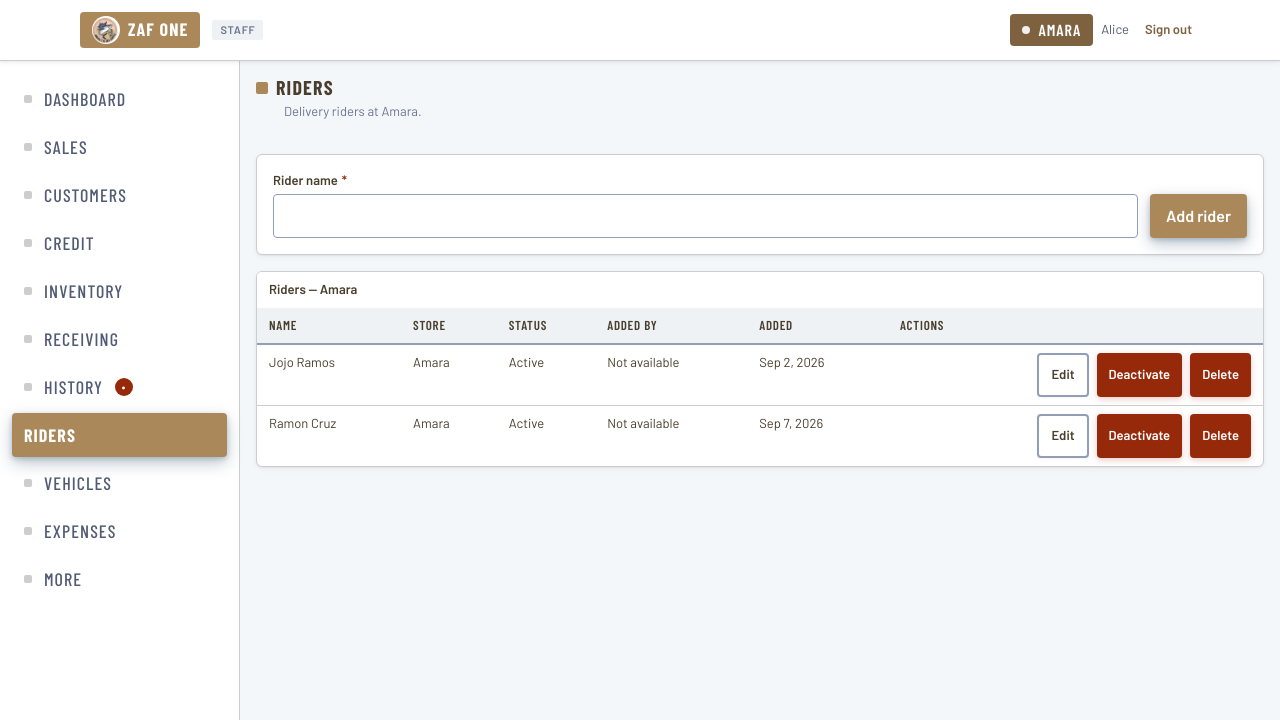
RidersPage › deletes a rider that is not referenced by records
The image size is (1280, 720).
Expected: the text "Jojo Ramos" is shown, [257, 344, 401, 406]
Type "Standby Rider" into the field labelled "Rider name*". click: (706,216)
box: [273, 194, 1138, 238]
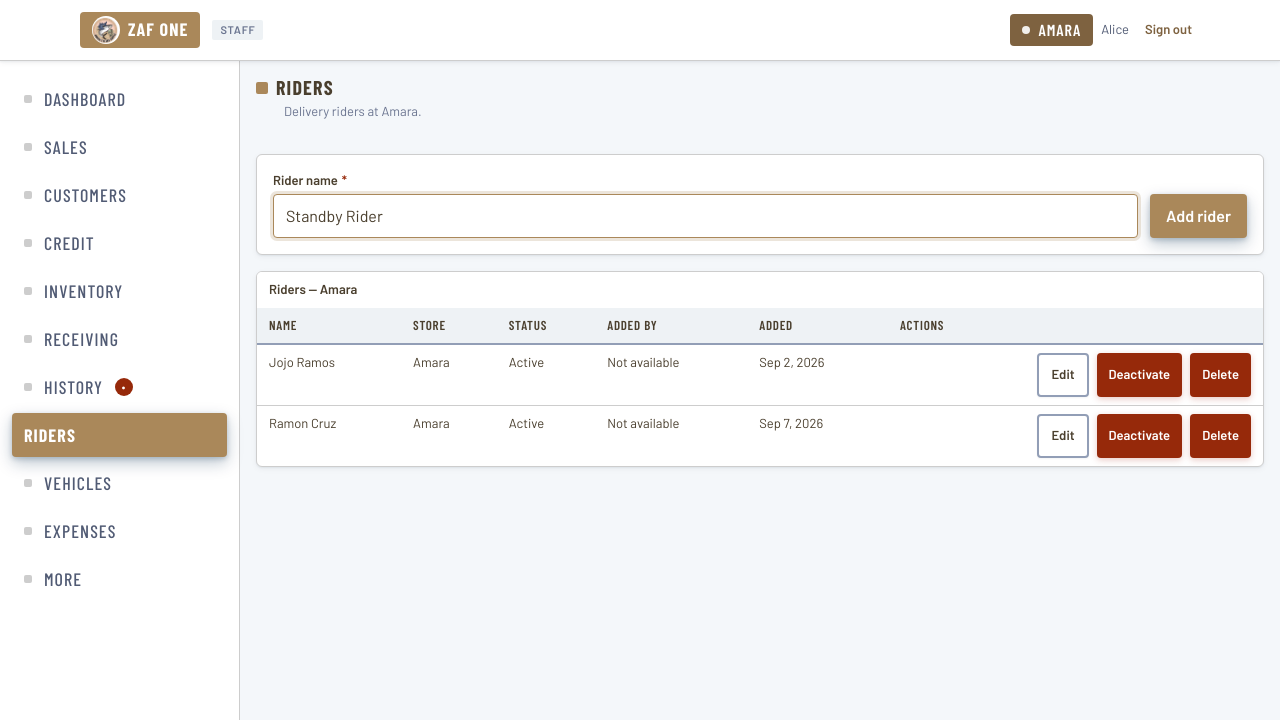
Click the button "Add rider". click: (1199,216)
box: [1150, 194, 1247, 238]
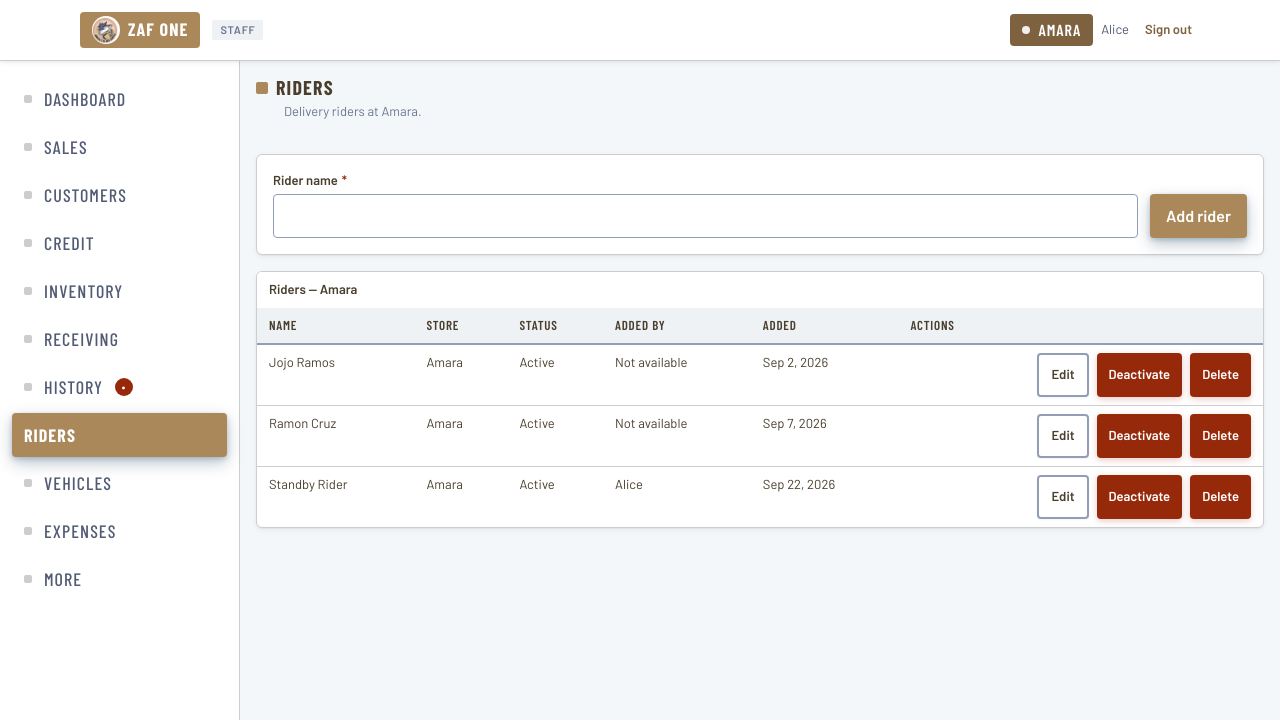
Click the button "Delete" in the row of "Standby Rider". click: (1221,497)
box: [1190, 475, 1251, 519]
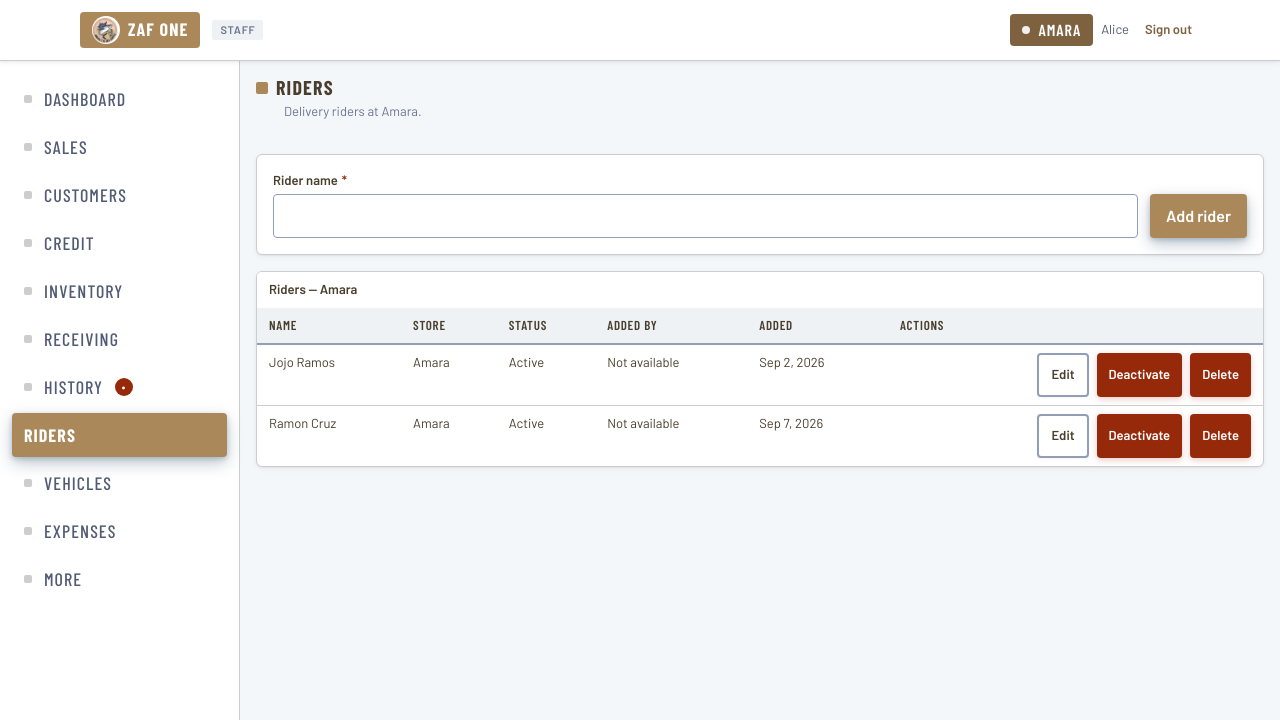
Now the text "Standby Rider" is gone
